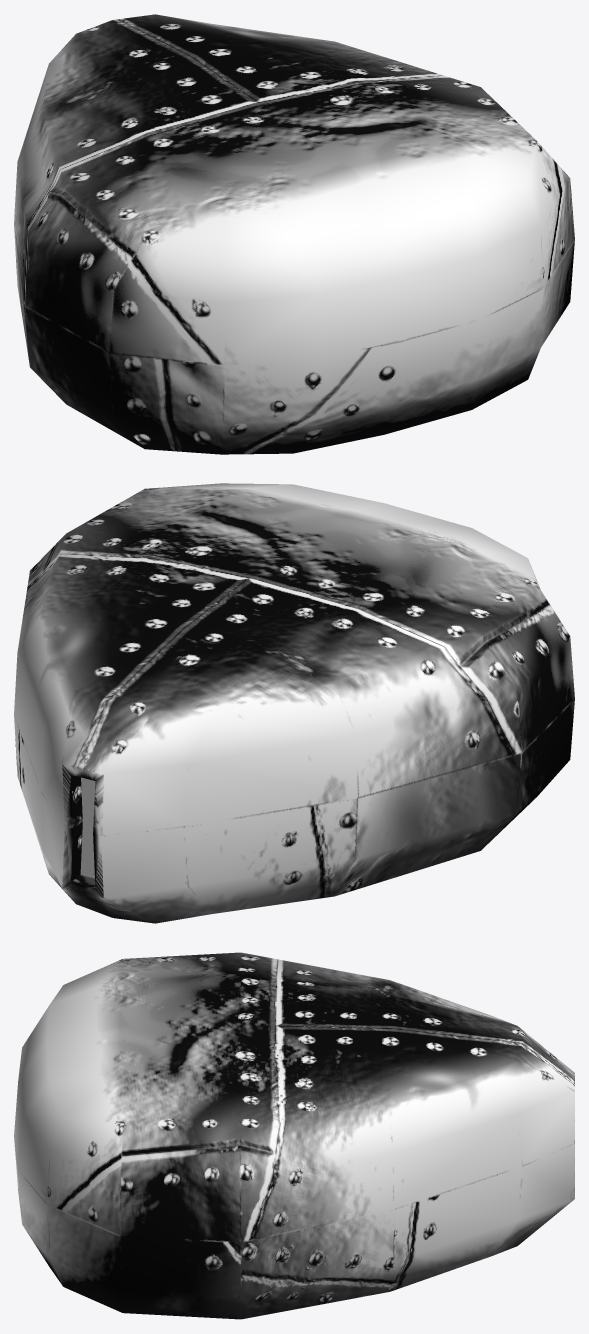
The model's file is engine2NEW.fbx.
3 views of the same model, one above another, from view 1: azimuth 30°, elevation 25°; view 2: azimuth 150°, elevation 25°; view 3: azimuth 270°, elevation 25° (orthographic). The views are drawn at different scales.
Parts seen in each view (by area): view 1: engine2NEW; view 2: engine2NEW, engine2NeonNEW; view 3: engine2NEW.
Boxes of the visible parts, x1,y1,x2,y2 form: engine2NEW: (14, 14, 574, 454); engine2NEW: (14, 483, 574, 923); engine2NeonNEW: (80, 777, 95, 878); engine2NEW: (14, 952, 574, 1319).
Bounding box in the file's own units: 5.4 × 6.01 × 2.68.
